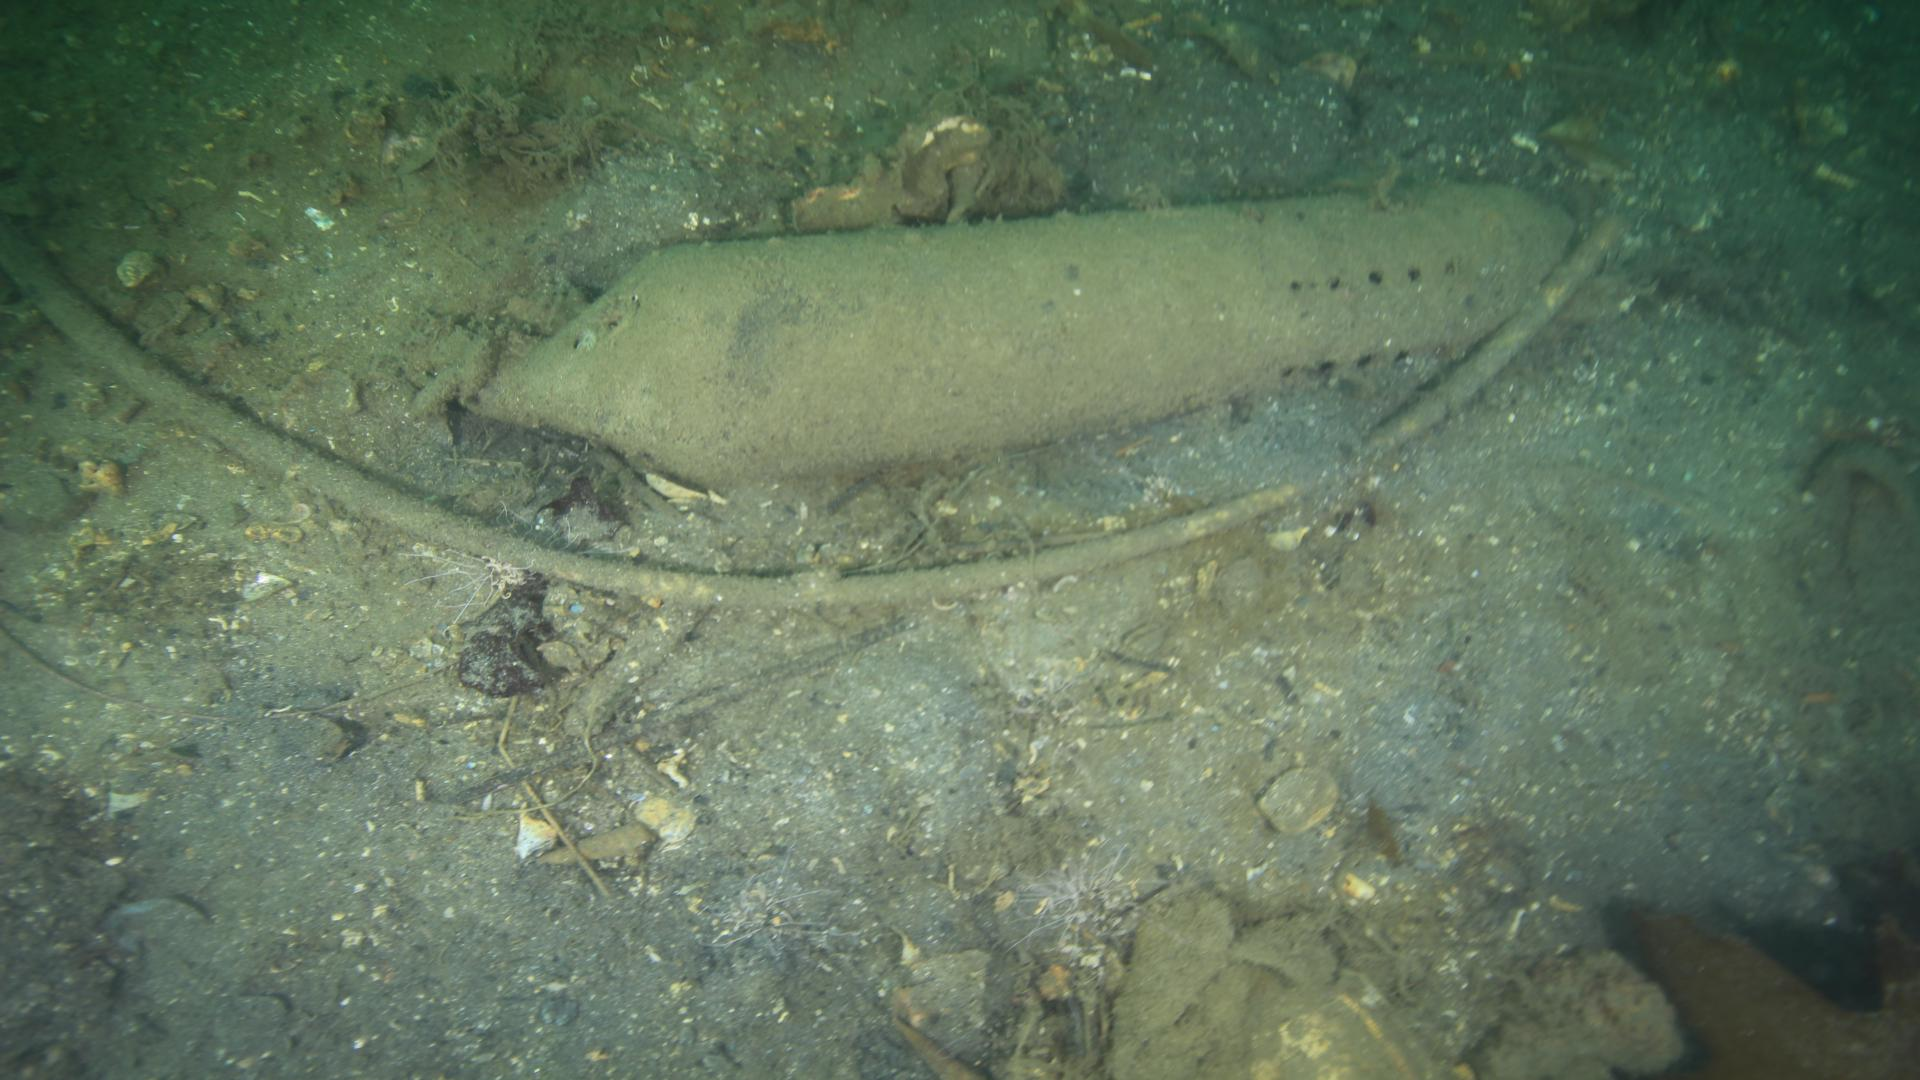eel fish trap: (465, 187, 1578, 485)
